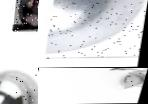ironball: (44, 0, 147, 58), (0, 68, 38, 103), (13, 0, 38, 32), (123, 72, 146, 92), (105, 68, 142, 70)
